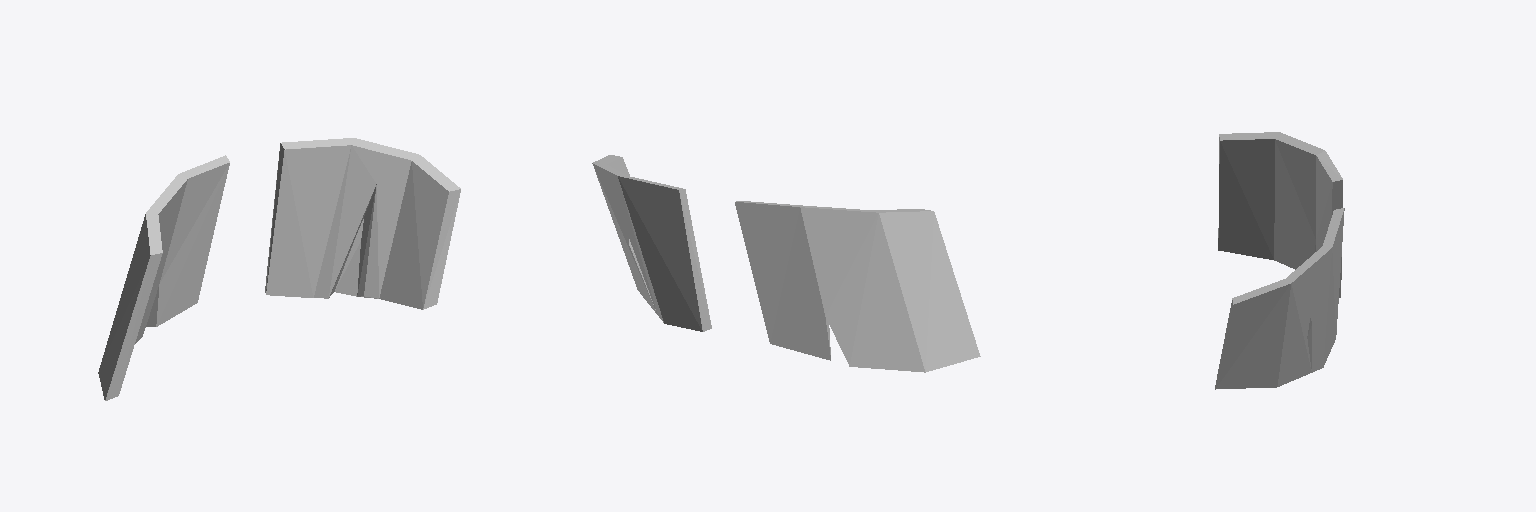
Rendered from Trunk.obj.
3 renders of one model, left to right at view 1: azimuth 30°, elevation 25°; view 2: azimuth 150°, elevation 25°; view 3: azimuth 270°, elevation 25°, orthographic.
Bounding box in the file's own units: 18.63 × 7.71 × 5.74.